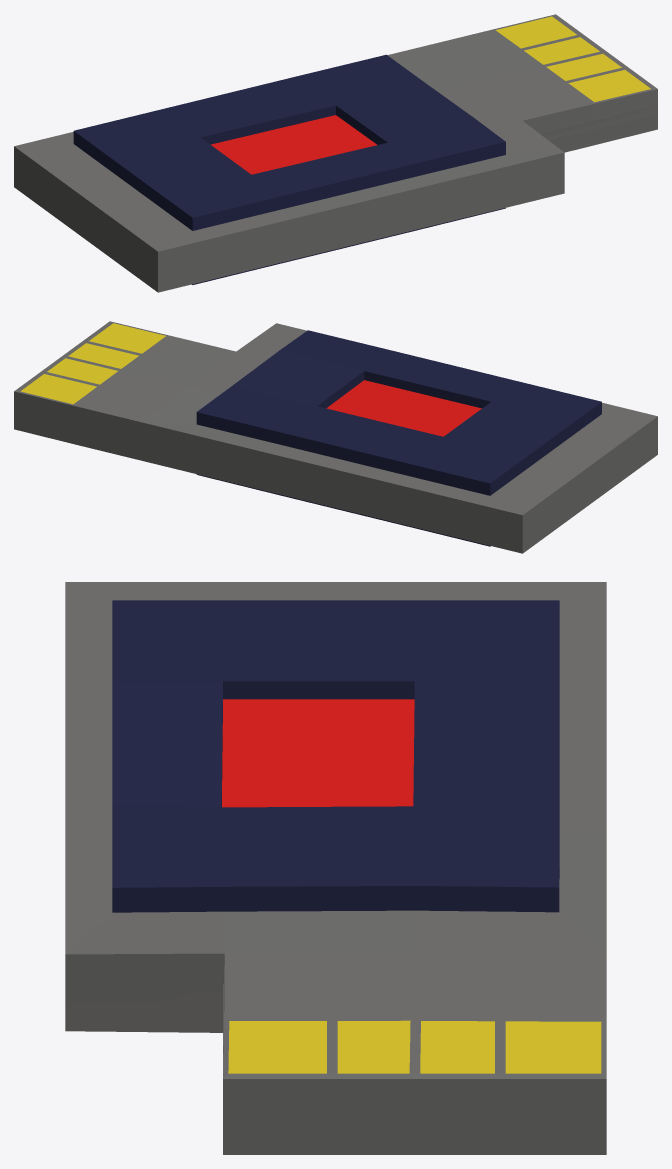
Rendered from KEY.fbx.
3 views of the same model, one above another, from view 1: azimuth 30°, elevation 25°; view 2: azimuth 150°, elevation 25°; view 3: azimuth 270°, elevation 25° (orthographic). The views are drawn at different scales.
Visible parts, largest first — view 1: Cube; view 2: Cube; view 3: Cube.
Part boxes in pixels (box(x1,y1,x2,y2)): Cube: box(14, 14, 657, 292); Cube: box(14, 321, 657, 553); Cube: box(65, 582, 606, 1154).
Size of the model in its own units: 434 by 52.17 by 200.
